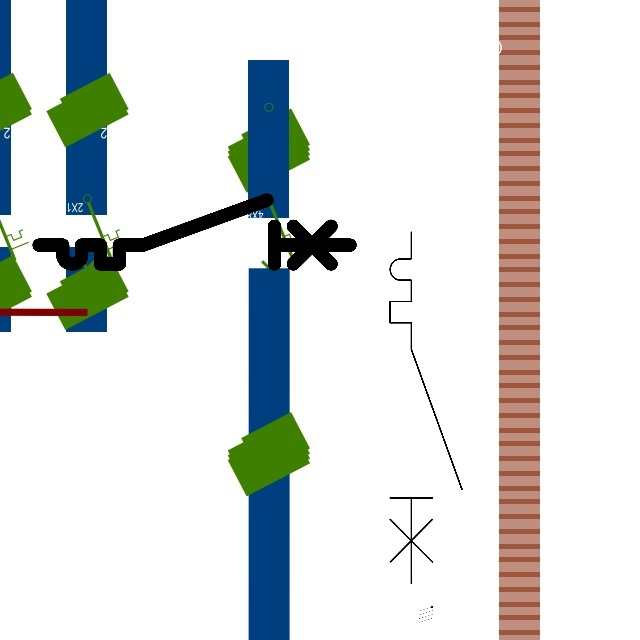interruptor_termomagnetico: (381, 223, 471, 592), (31, 192, 358, 272)
